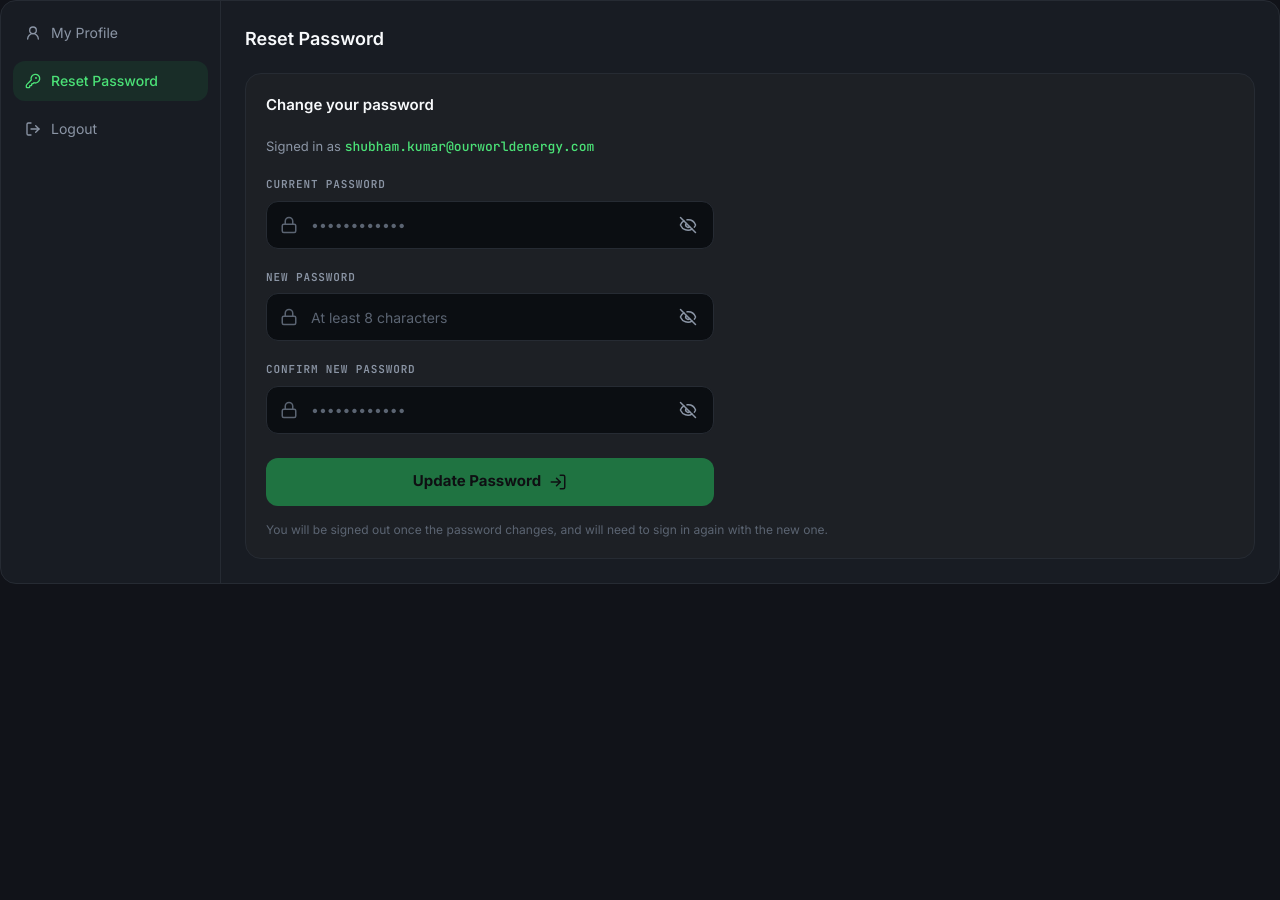
Scenario: Account Settings — reset password › applies the same rules as the forced change screen
Expected: the button "Update Password" is disabled, [266,458,714,506]
Type "same" into the password field labelled "Current Password".
click(490, 224); type("same")  # box [266,200,714,248]
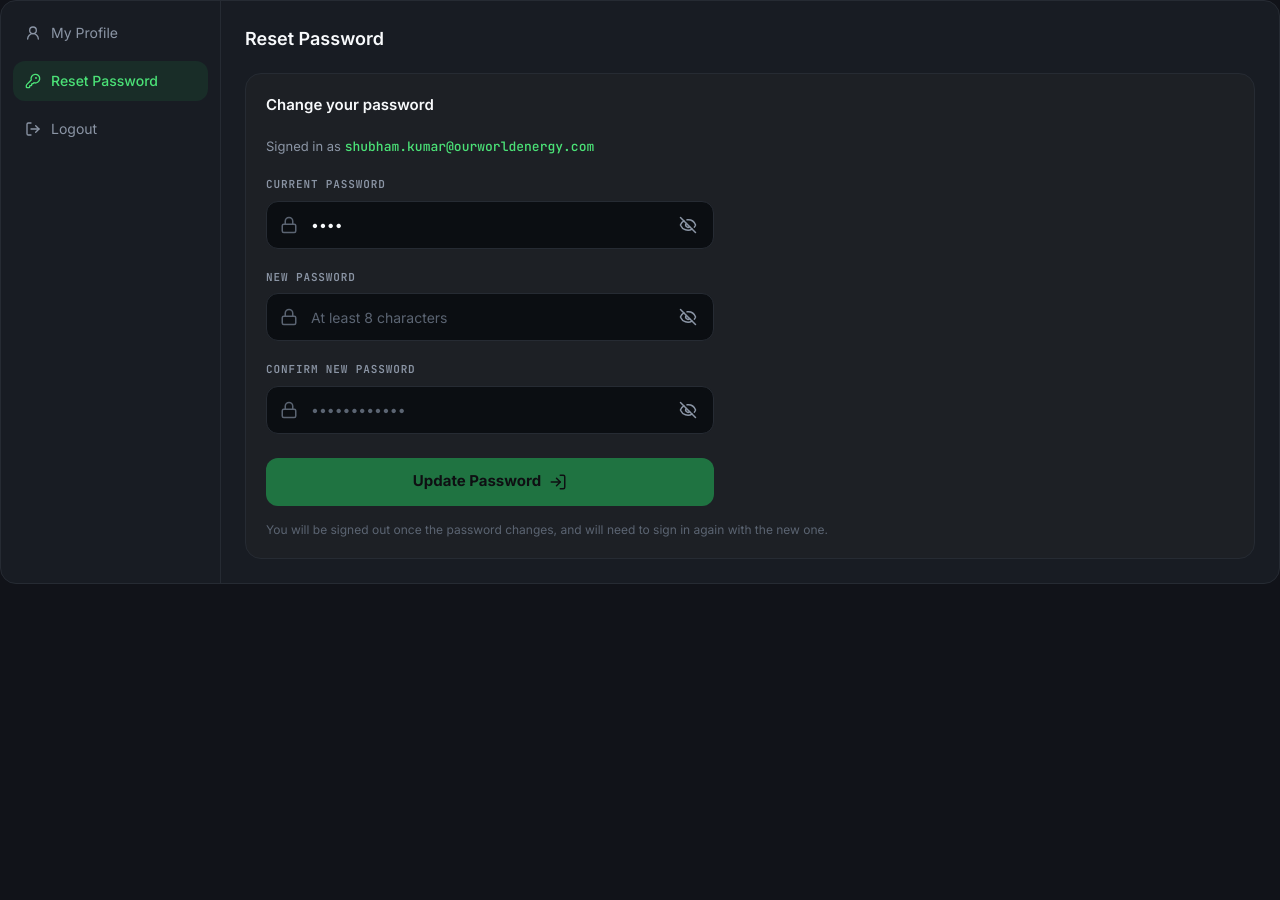
Type "same" into the password field labelled "New Password".
click(490, 317); type("same")  # box [266,293,714,341]
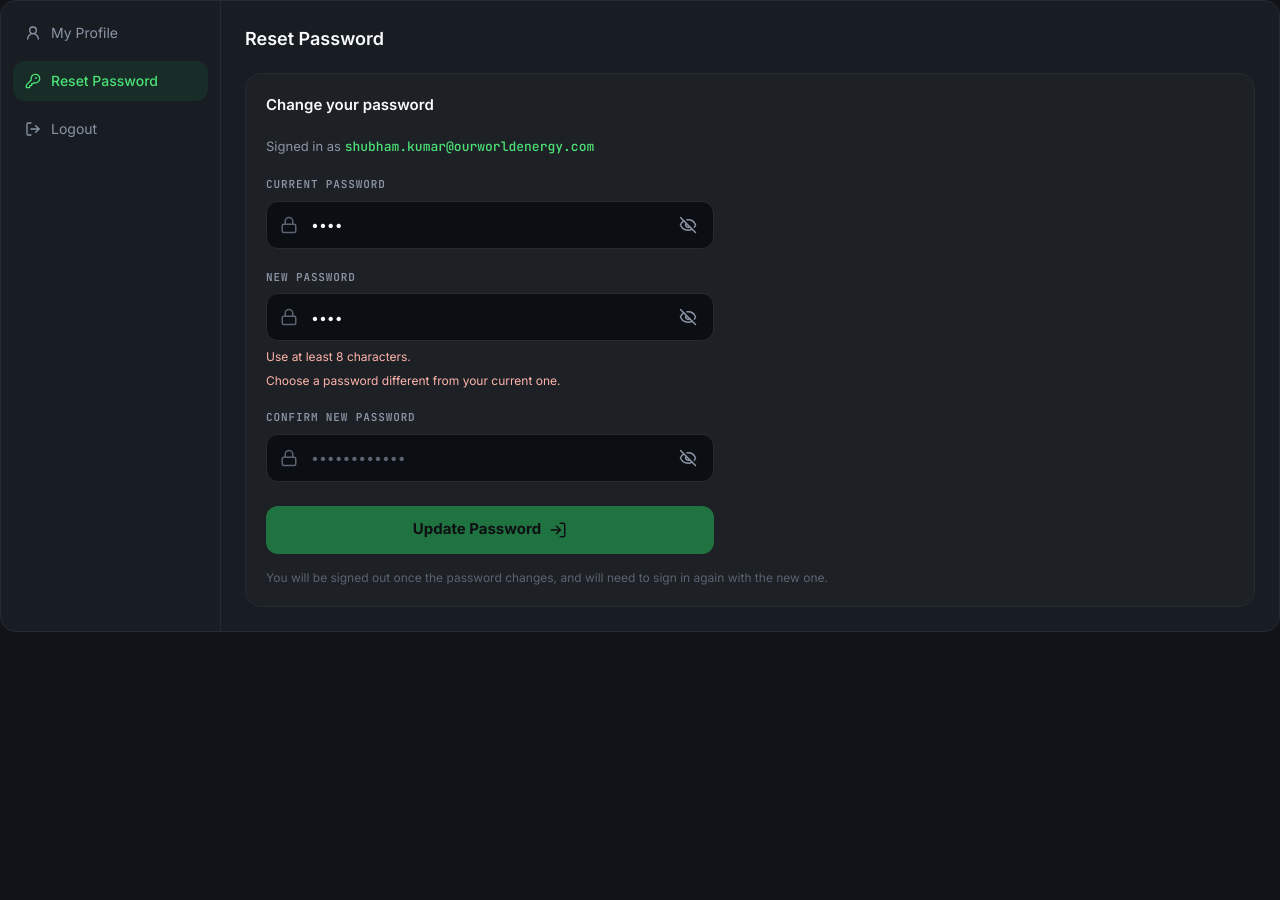
Expected: the button "Update Password" is disabled, [266,506,714,554]
Expected: the text "Choose a password different from your current one." is shown, [266,373,560,388]
